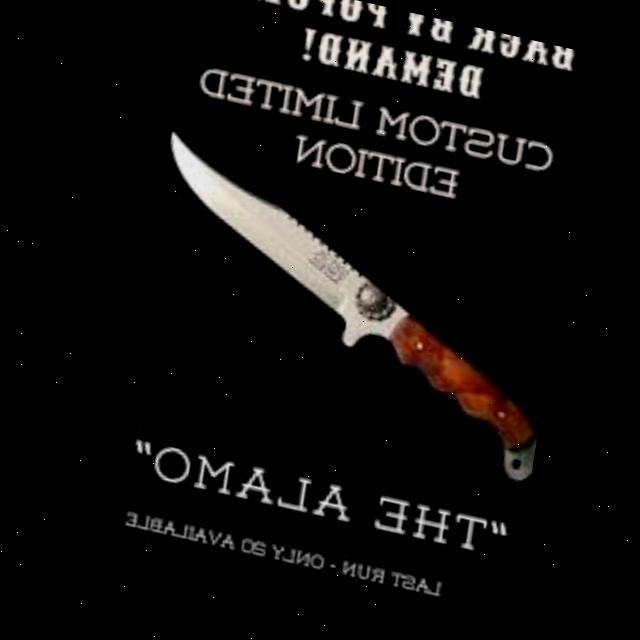Knife: (109, 128, 583, 484)
